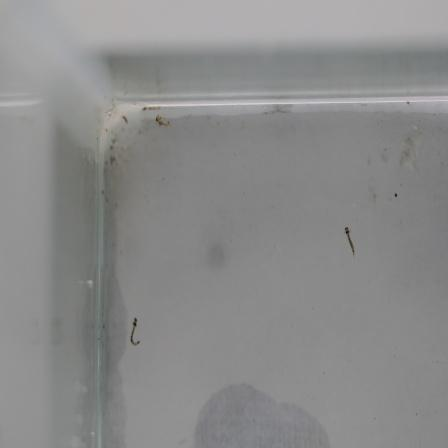Jentik-Nyamuk: (126, 314, 144, 349), (342, 222, 357, 261), (151, 111, 173, 132)
